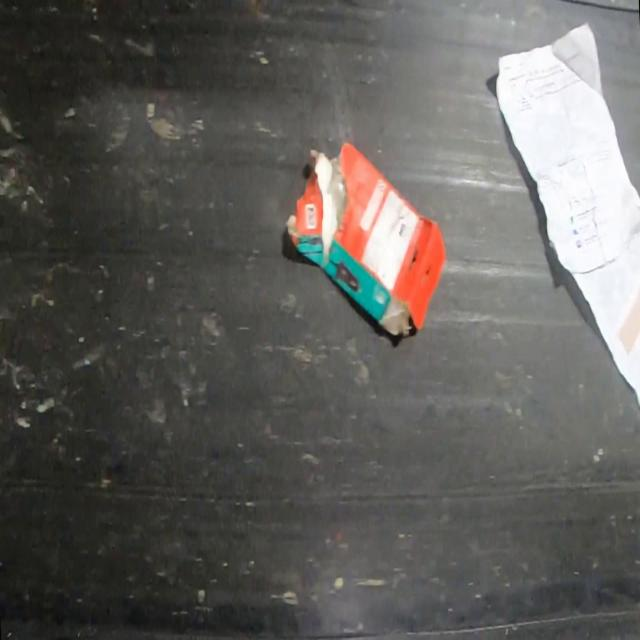cardboard: (285, 141, 444, 336)
